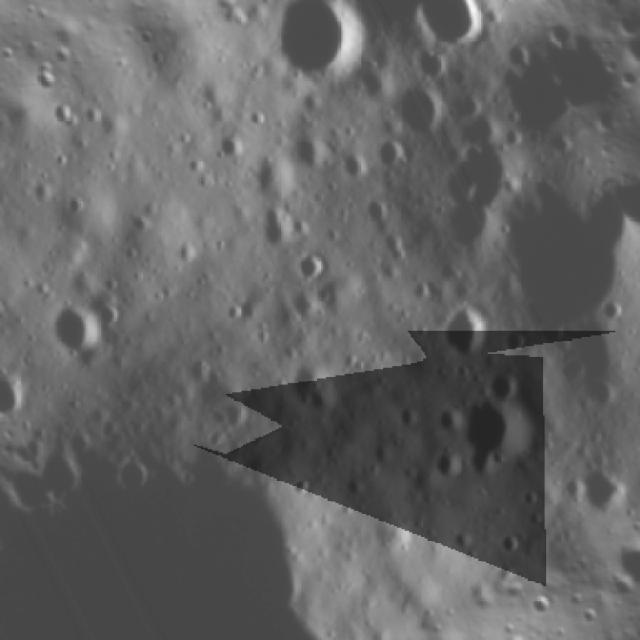crater: (464, 155, 640, 393), (245, 0, 384, 106), (438, 378, 548, 493), (29, 280, 120, 374), (420, 283, 509, 375), (383, 0, 502, 68), (555, 442, 640, 530), (377, 62, 454, 146), (362, 120, 416, 174), (282, 240, 336, 294), (477, 357, 529, 409), (620, 444, 640, 516)
